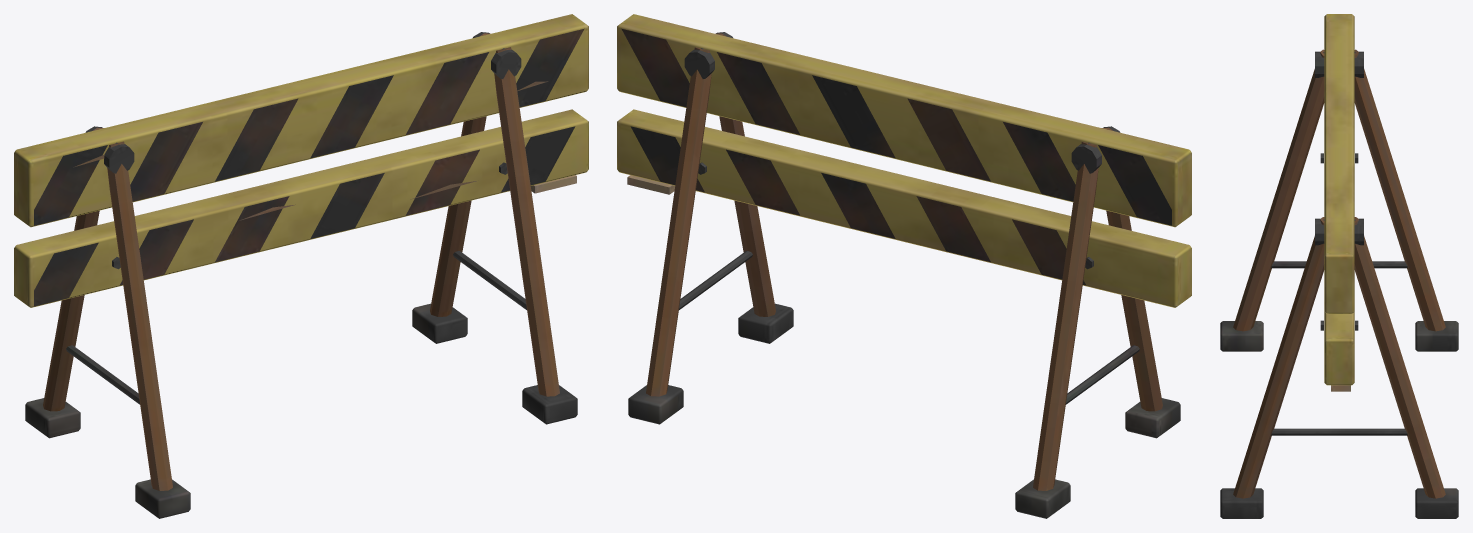
Rendered from RE14_road_barrier_v1.glb.
3 renders of one model, left to right at view 1: azimuth 30°, elevation 25°; view 2: azimuth 150°, elevation 25°; view 3: azimuth 270°, elevation 25°, orthographic. The views are drawn at different scales.
Parts seen in each view (by area): view 1: Splayed rusty leg; view 2: Splayed rusty leg; view 3: Splayed rusty leg.
Boxes of the visible parts, x1,y1,x2,y2 form: Splayed rusty leg: (14,14,588,518); Splayed rusty leg: (617,14,1191,518); Splayed rusty leg: (1220,14,1458,518).
Size of the model in its own units: 2 by 1.14 by 0.83.
7 materials, 7 textured.
